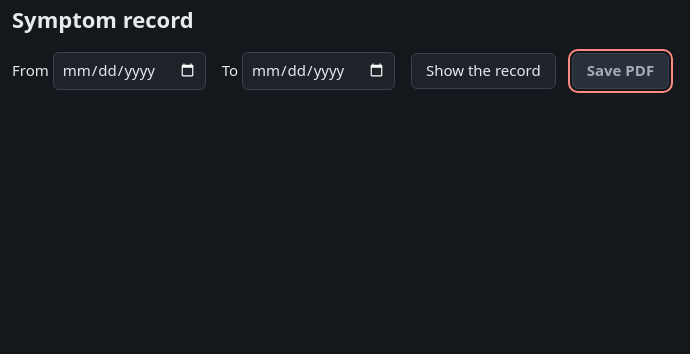
Test: the receipt › sets the framing apart from the record it frames
This screenshot has width=690, height=354.
Click the button "Show the record" at coordinates (483, 71), box [411, 53, 556, 89]
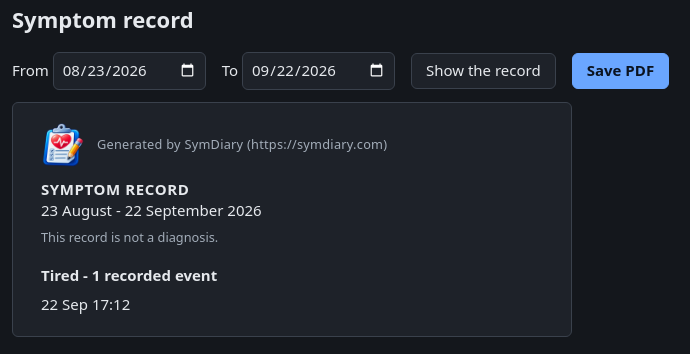
Now the number of elements with class "statement" is 1, box [41, 228, 218, 246]
